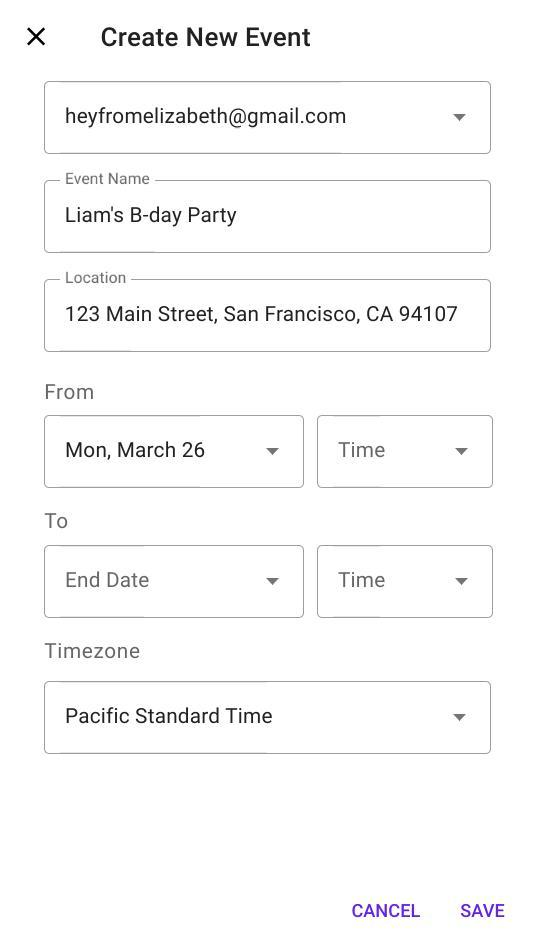dropdown: (43, 80, 496, 158), (43, 680, 495, 756), (45, 413, 308, 489), (43, 545, 306, 620), (317, 412, 497, 491), (316, 543, 495, 620)
input: (43, 273, 494, 356), (44, 177, 494, 257)
label: (45, 641, 143, 661), (43, 383, 102, 407), (65, 174, 153, 187), (60, 271, 131, 286), (461, 901, 509, 922), (349, 905, 424, 918), (44, 513, 69, 530)
